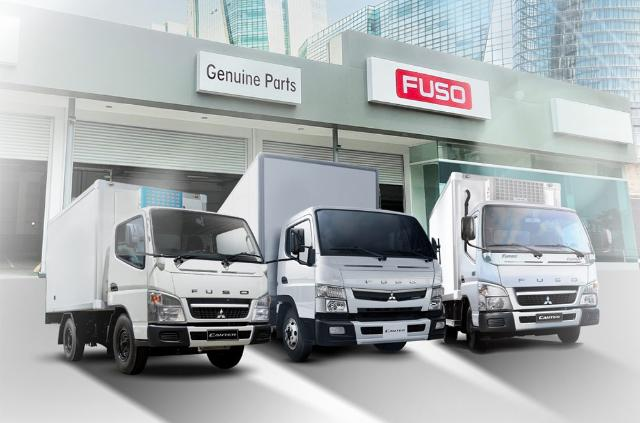truck: (37, 176, 277, 367), (221, 153, 437, 361), (427, 172, 602, 348)
